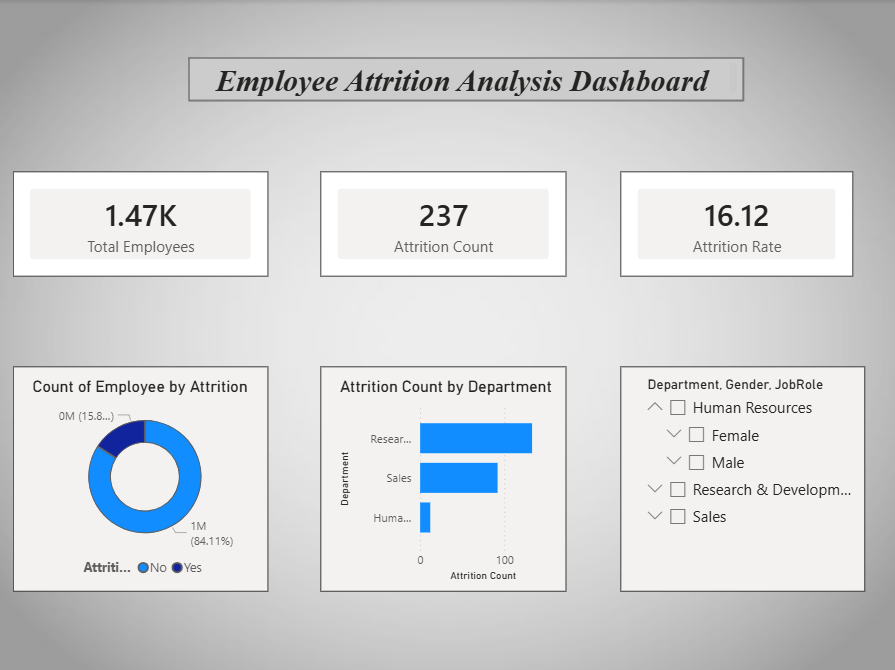

What the dashboard file says about the page in this screenshot:
{"tool":"powerbi","page":{"name":"Page 1","canvas":[960,720],"ordinal":0},"visuals":[{"type":"cardVisual","fields":{"Data":["hr_analytics hr_employee_attrition.total_employees"]},"box":[19.1,182.9,270.4,111.3],"z":0},{"type":"cardVisual","fields":{"Data":["hr_analytics hr_employee_attrition.Attrition Count"]},"box":[345.2,182.9,260.9,111.3],"z":1000},{"type":"cardVisual","fields":{"Data":["hr_analytics hr_employee_attrition.Attrition Rate"]},"box":[663.3,182.9,246.5,111.3],"z":3000},{"type":"donutChart","fields":{"Category":["hr_analytics hr_employee_attrition.Attrition"],"Y":["Sum(hr_analytics hr_employee_attrition.EmployeeNumber)"]},"box":[19.1,389.7,270.4,238.6],"z":4000},{"type":"clusteredBarChart","fields":{"Y":["hr_analytics hr_employee_attrition.Attrition Count"],"Category":["hr_analytics hr_employee_attrition.Department"]},"box":[345.2,389.7,260.9,238.6],"z":5000},{"type":"slicer","fields":{"Values":["hr_analytics hr_employee_attrition.Department","hr_analytics hr_employee_attrition.Gender","hr_analytics hr_employee_attrition.JobRole"]},"box":[663.3,389.7,259.3,238.6],"z":6000},{"type":"textbox","box":[205.2,62,588.5,46.1],"z":7000}]}

Visuals, with their boxes in screenshot pixels (x1, y1, x2, y2), scaled from the page's 960x720 canvas onto the 895x670 screenshot:
cardVisual - hr_analytics hr_employee_attrition.total_employees: [18,170,270,274]
cardVisual - hr_analytics hr_employee_attrition.Attrition Count: [322,170,565,274]
cardVisual - hr_analytics hr_employee_attrition.Attrition Rate: [618,170,848,274]
donutChart - hr_analytics hr_employee_attrition.Attrition x Sum(hr_analytics hr_employee_attrition.EmployeeNumber): [18,363,270,585]
clusteredBarChart - hr_analytics hr_employee_attrition.Attrition Count x hr_analytics hr_employee_attrition.Department: [322,363,565,585]
slicer - hr_analytics hr_employee_attrition.Department x hr_analytics hr_employee_attrition.Gender: [618,363,860,585]
textbox: [191,58,740,101]
